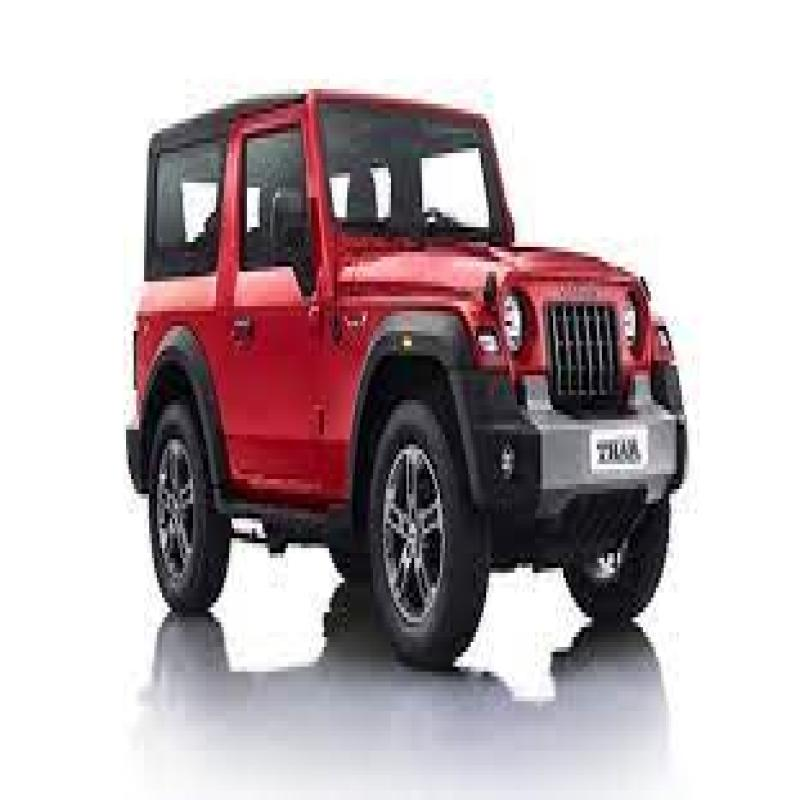car: (120, 81, 680, 672)
